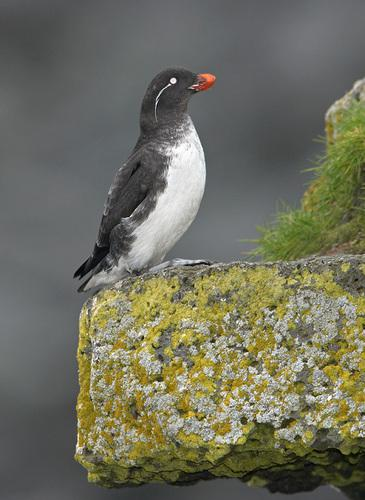007.Parakeet_Auklet: (75, 68, 219, 295)
